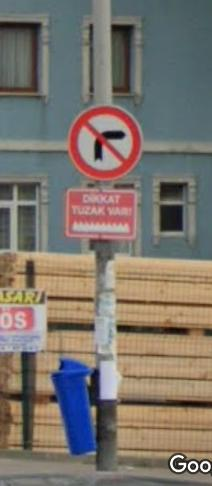rightturnsareforbidden: (66, 105, 145, 181)
